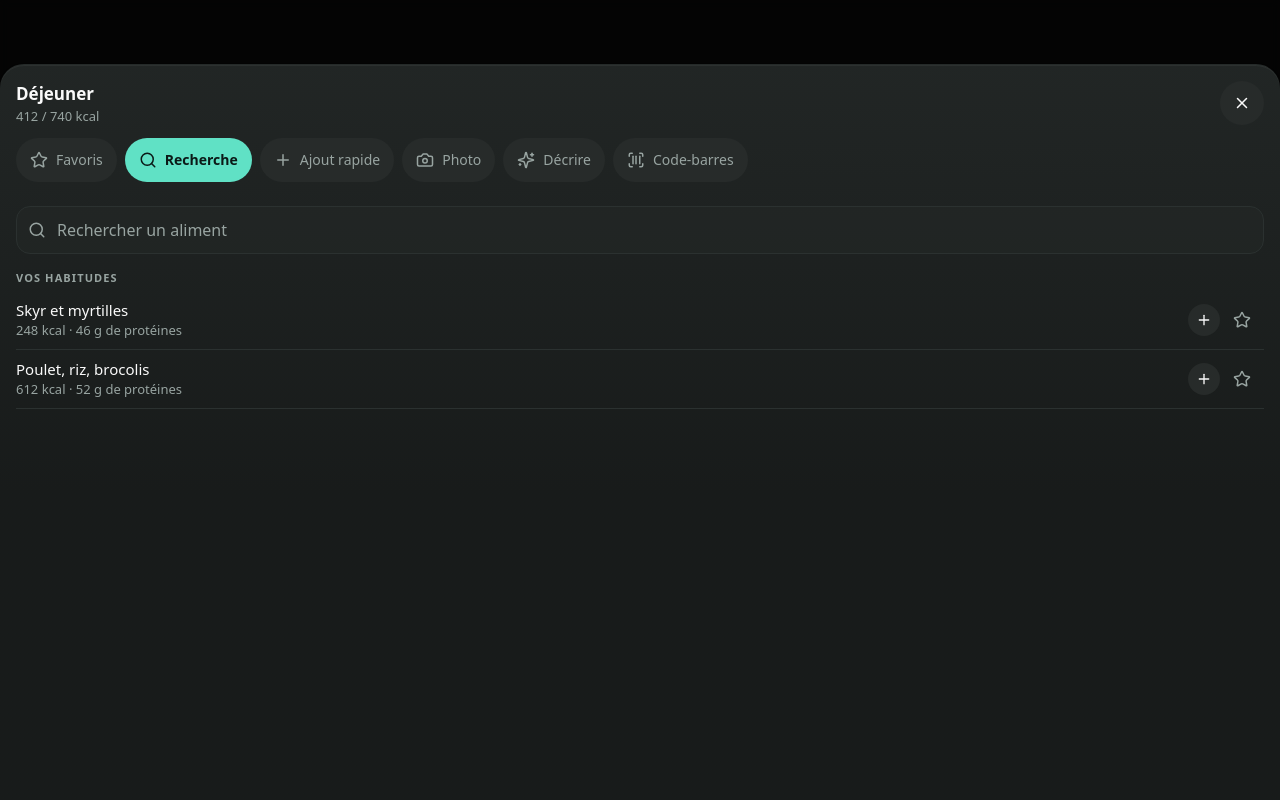
Scenario: AddSheet › anchors the action only on the two tabs that have one
The image size is (1280, 800).
Expected: the button "Ouvrir l’appareil photo" is not shown
Step 1. Click the tab "Photo" → (449, 160), box top-left (402, 138), bottom-right (495, 182)
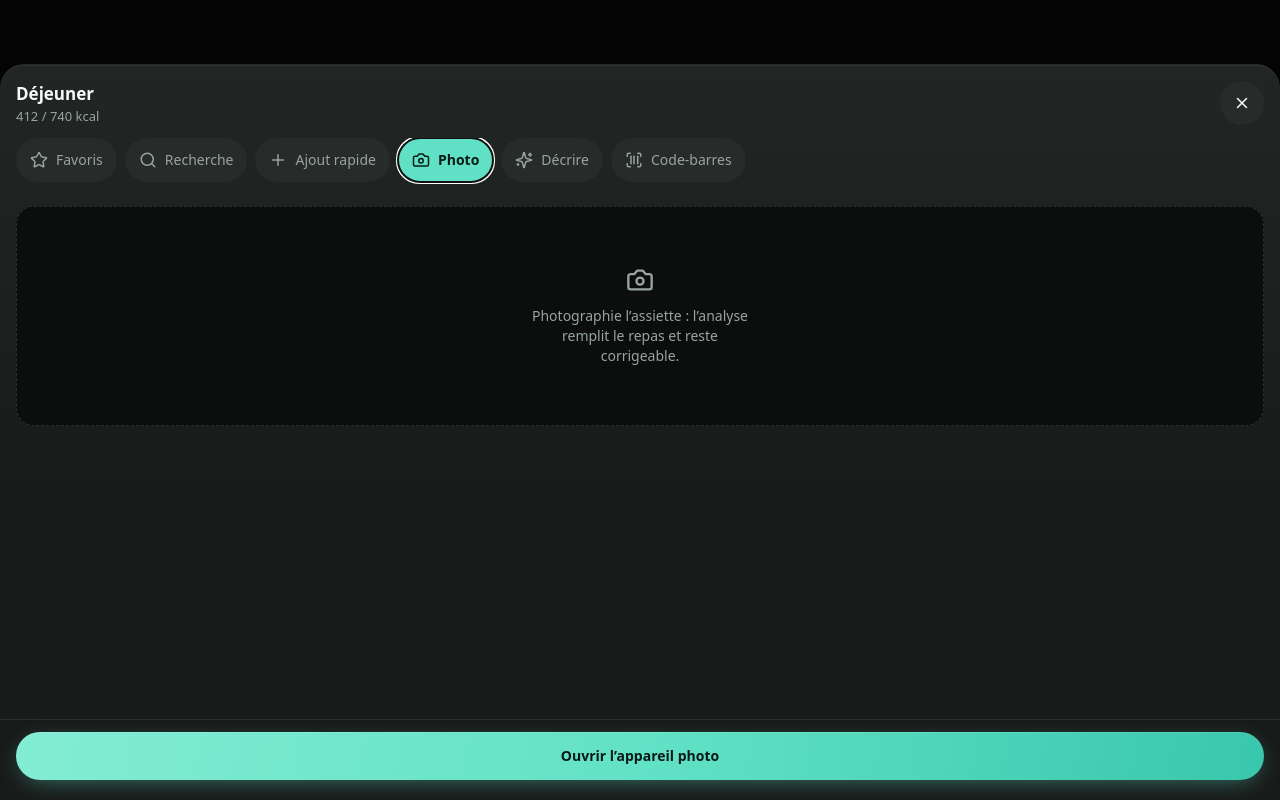
Now the button "Ouvrir l’appareil photo" is shown, box top-left (16, 732), bottom-right (1264, 780)
